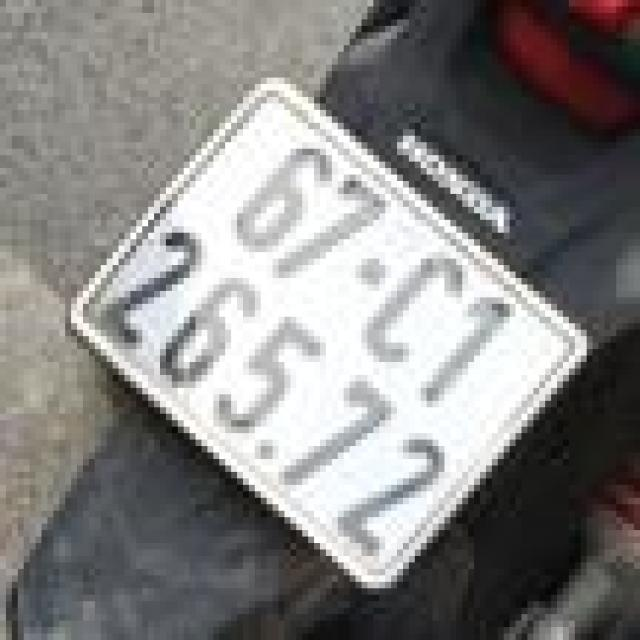1: (399, 273, 530, 424)
2: (323, 413, 469, 575), (84, 207, 223, 366)
5: (200, 300, 341, 451)
6: (145, 259, 279, 400), (223, 131, 348, 264)
7: (260, 162, 402, 305), (269, 361, 407, 505)
C: (351, 233, 486, 381)
